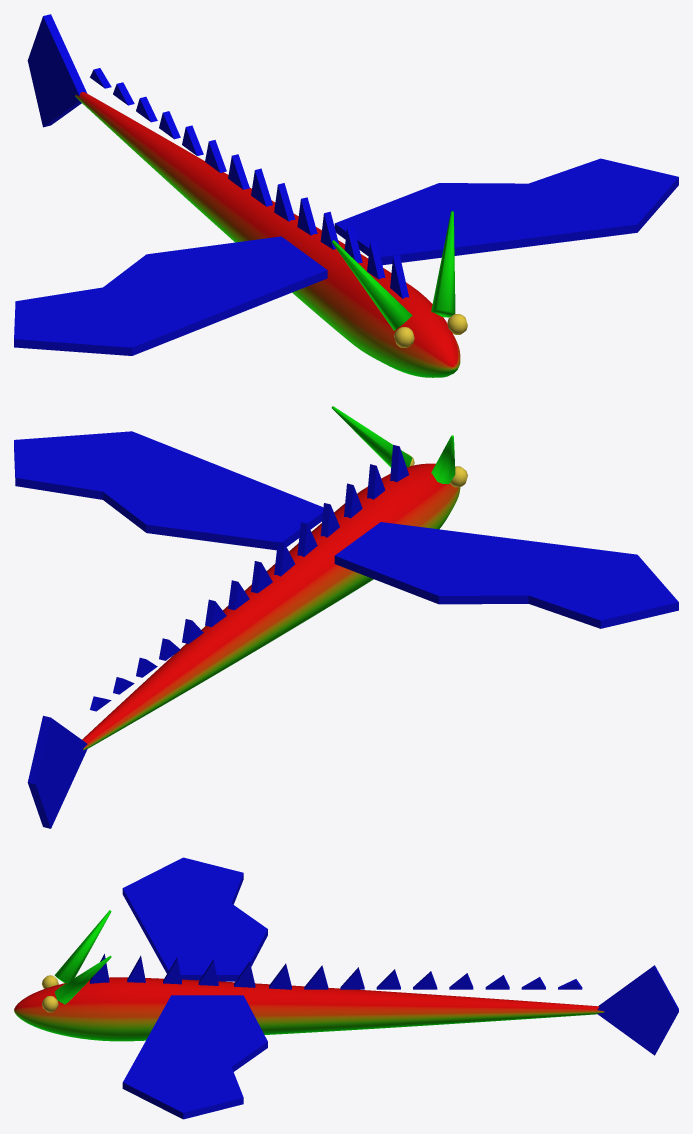
File: fish_drake.glb
3 renders of one model, top to bottom at view 1: azimuth 30°, elevation 25°; view 2: azimuth 150°, elevation 25°; view 3: azimuth 270°, elevation 25°, orthographic. The views are drawn at different scales.
Parts seen in each view (by area): view 1: Body, Eye; view 2: Body; view 3: Body.
Boxes of the visible parts, box(x1,y1,x2,y2) form: Body: box(14, 14, 678, 377); Eye: box(394, 314, 467, 347); Body: box(14, 406, 678, 828); Body: box(14, 857, 678, 1119).
Bounding box in the file's own units: 1 × 0.2213 × 1.1.
